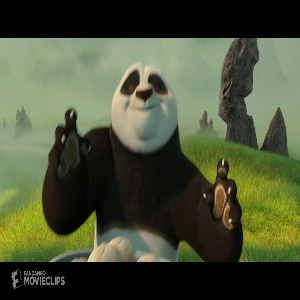po: (43, 55, 247, 261)
